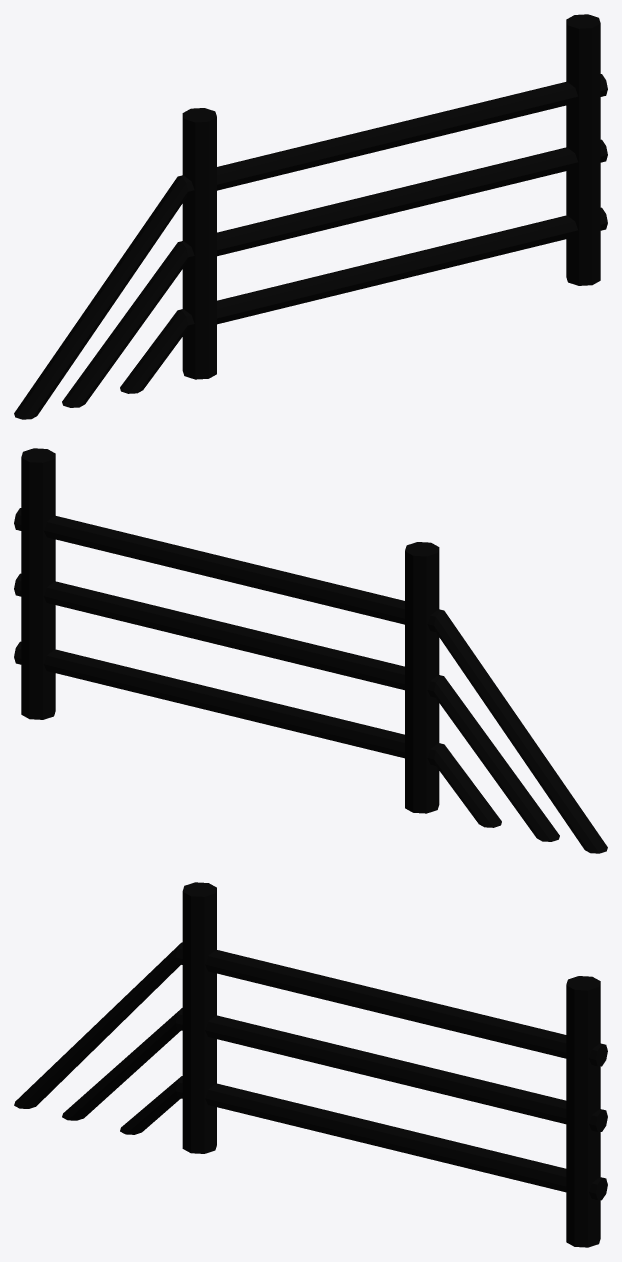
Rendered from Field fence 1.fbx.
3 views of the same model, one above another, from view 1: azimuth 30°, elevation 25°; view 2: azimuth 150°, elevation 25°; view 3: azimuth 330°, elevation 25° (orthographic).
Parts seen in each view (by area): view 1: Cylinder.009; view 2: Cylinder.009; view 3: Cylinder.009.
Boxes of the visible parts, bbox=[...] form: Cylinder.009: bbox=[14, 14, 607, 419]; Cylinder.009: bbox=[14, 448, 607, 853]; Cylinder.009: bbox=[14, 882, 607, 1247].
Size of the model in its own units: 323 by 135 by 17.08.
